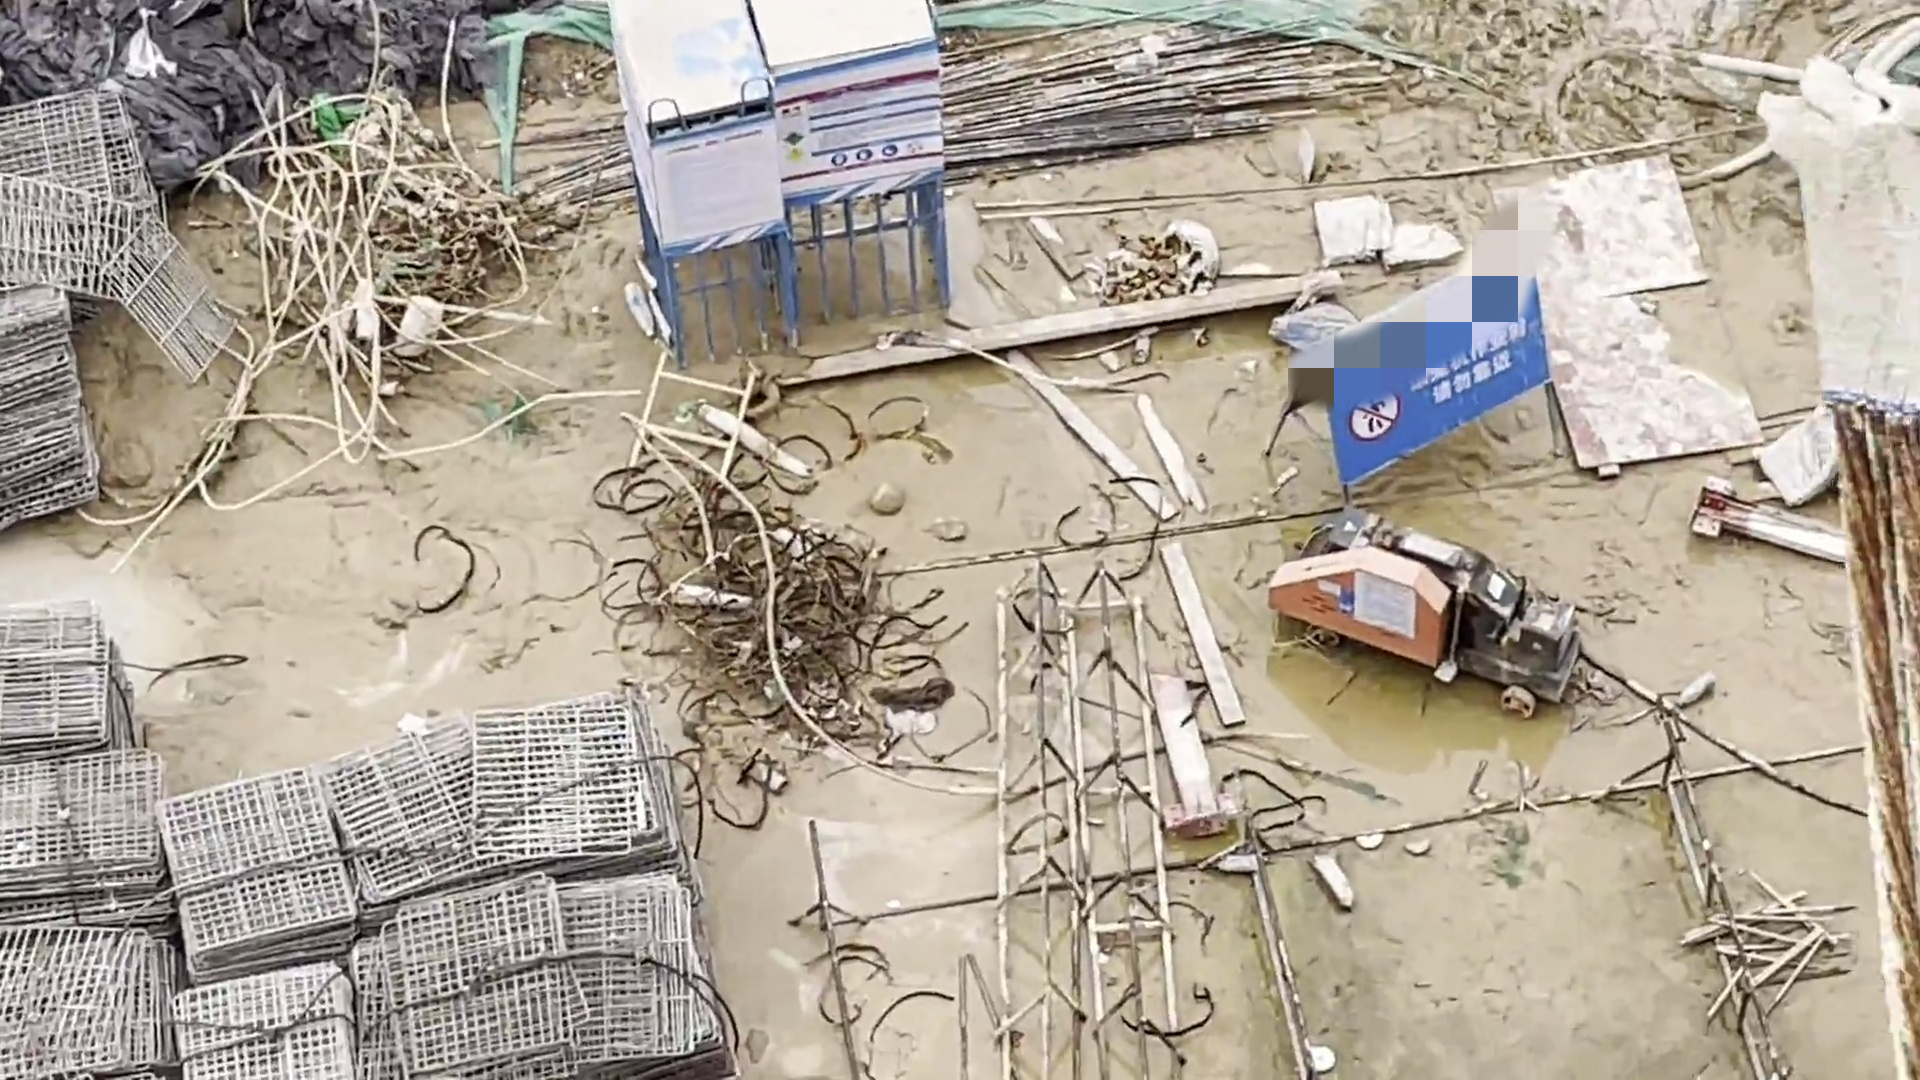slogan: (1320, 322, 1571, 465)
